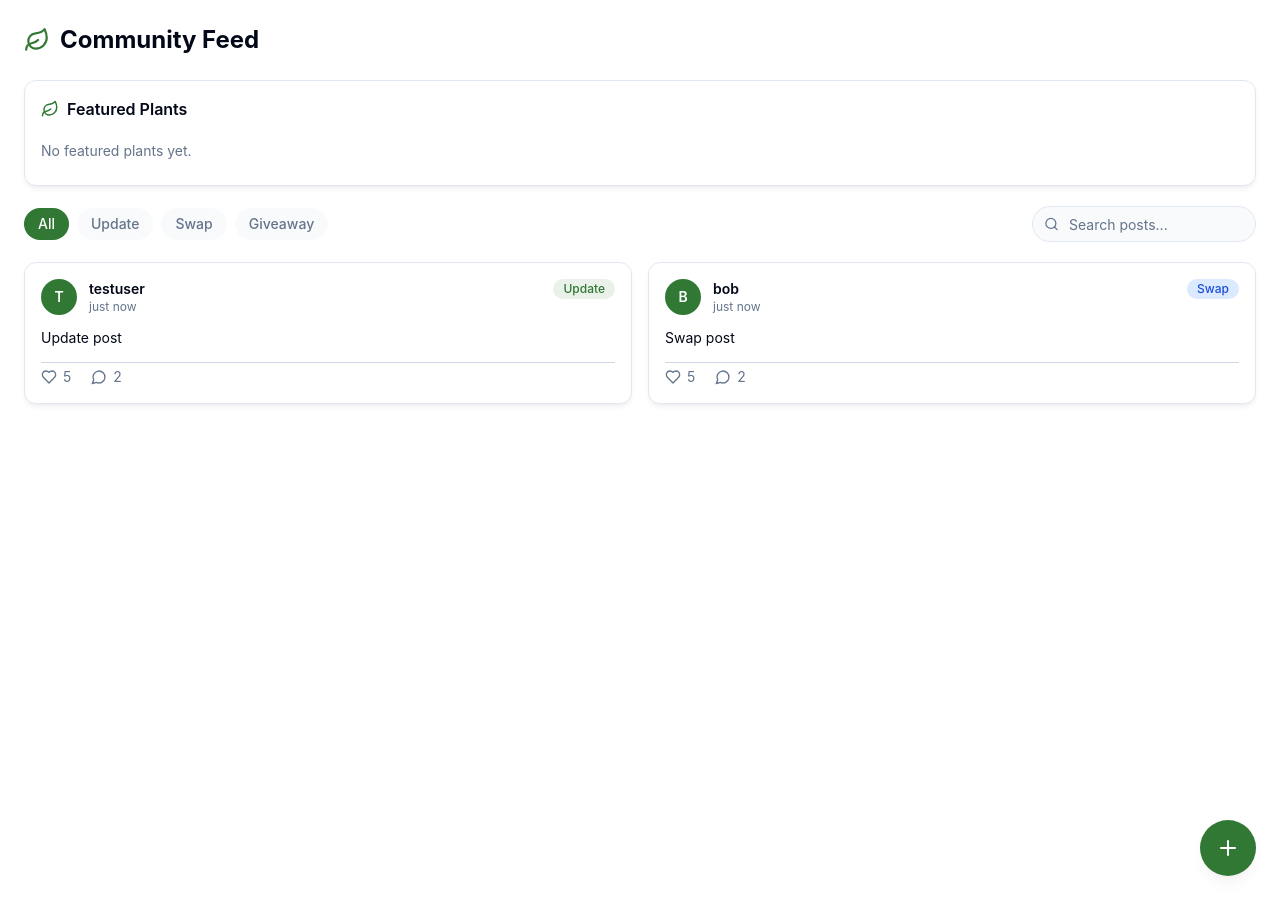
FeedPage › Filtering › filters posts by type when a type pill is clicked
Expected: the text "Update post" is shown, [41,329,122,346]
Expected: the text "Swap post" is shown, [665,329,735,346]
Step 1. Click the button "Swap" → (194, 224), box [162,208,227,240]
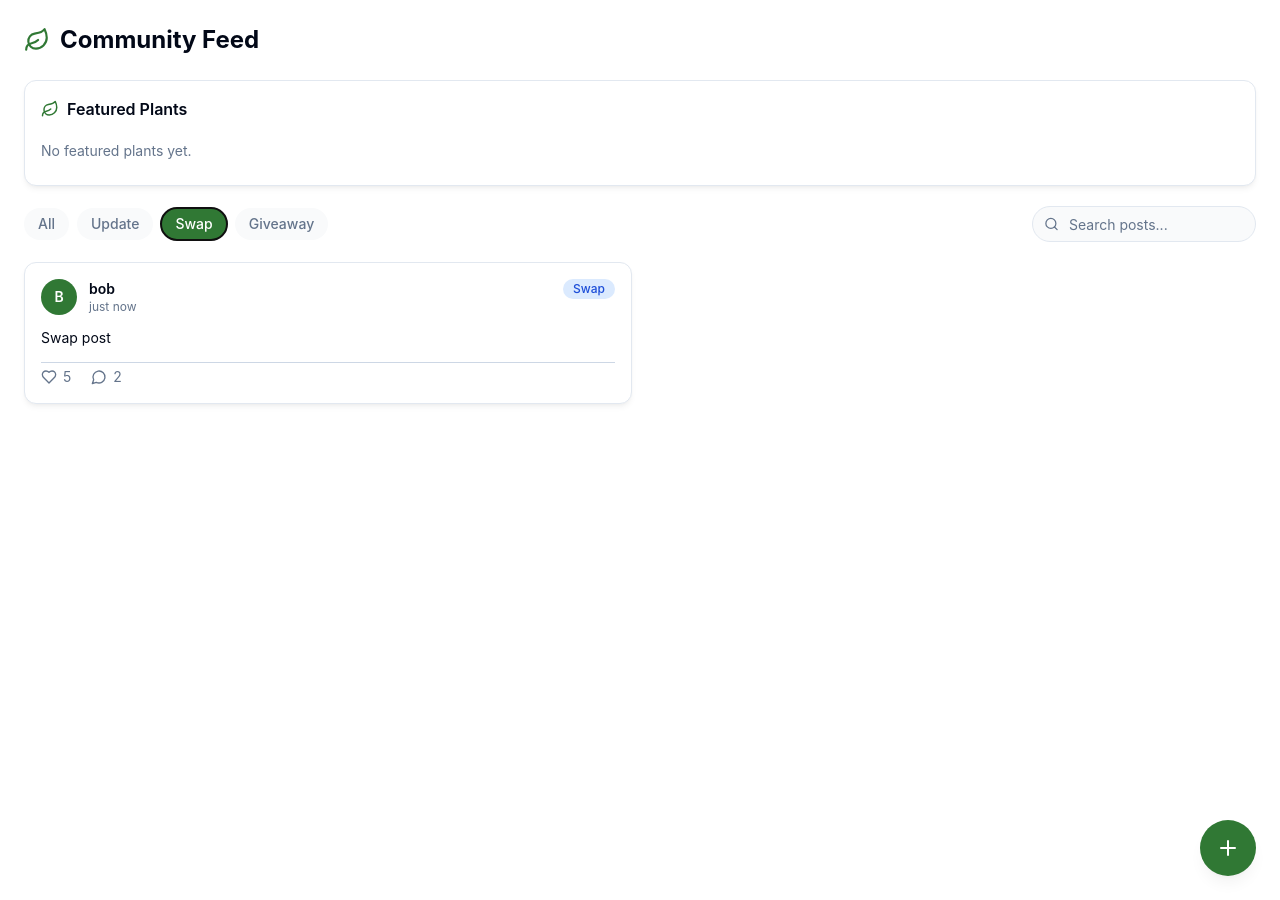
Expected: the text "Swap post" is shown, [41,329,111,346]
Result: the text "Update post" is gone
